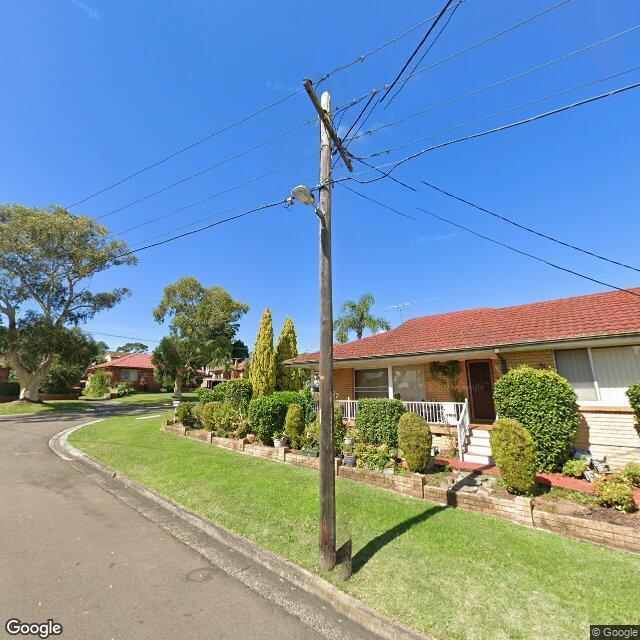crossarm: (301, 82, 354, 174)
streetlight: (291, 184, 326, 217)
timber-pole: (318, 91, 337, 570)
